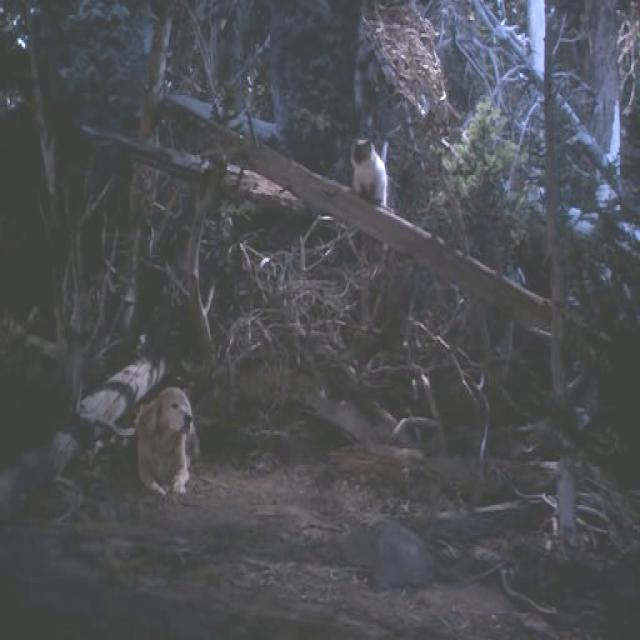Dog: (83, 333, 234, 543)
